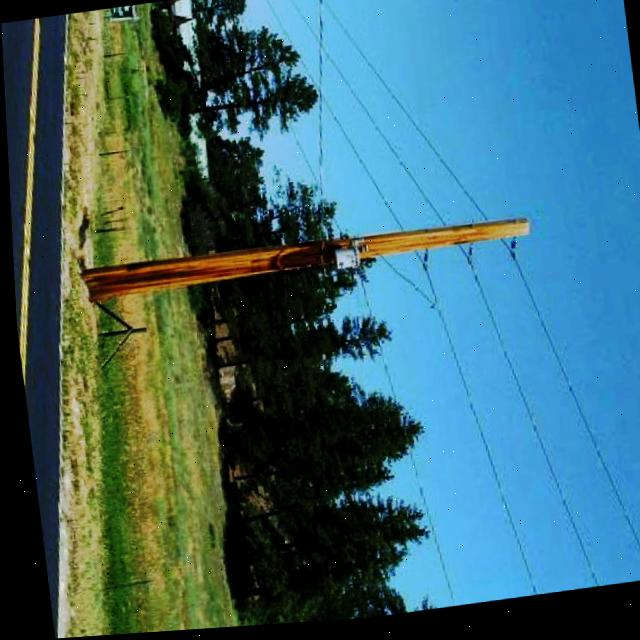poles: (83, 177, 550, 344)
wires: (354, 281, 640, 611), (248, 0, 480, 241)
